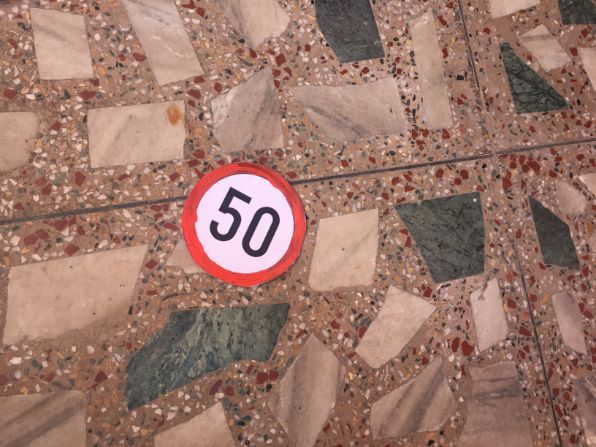speed-50: (181, 163, 307, 286)
